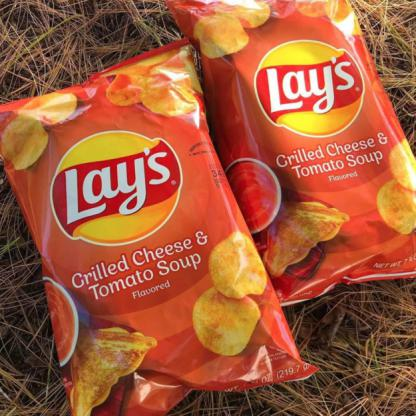potatochip: (0, 33, 324, 416), (153, 0, 416, 322)
